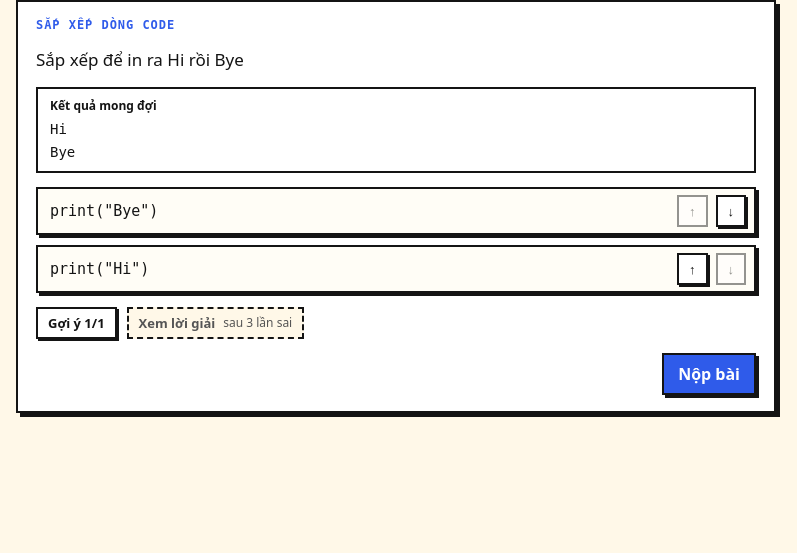
Test: PuzzleExerciseView: parsons › moves lines and submits them in the new order
Expected: the text "Sắp xếp để in ra Hi rồi Bye" is shown, [36,48,244,71]
Expected: the button named "Đưa dòng 1 lên" is disabled, [677,195,708,227]
Click the button named "Đưa dòng 2 lên".
click(692, 269)  # box [677,253,708,285]
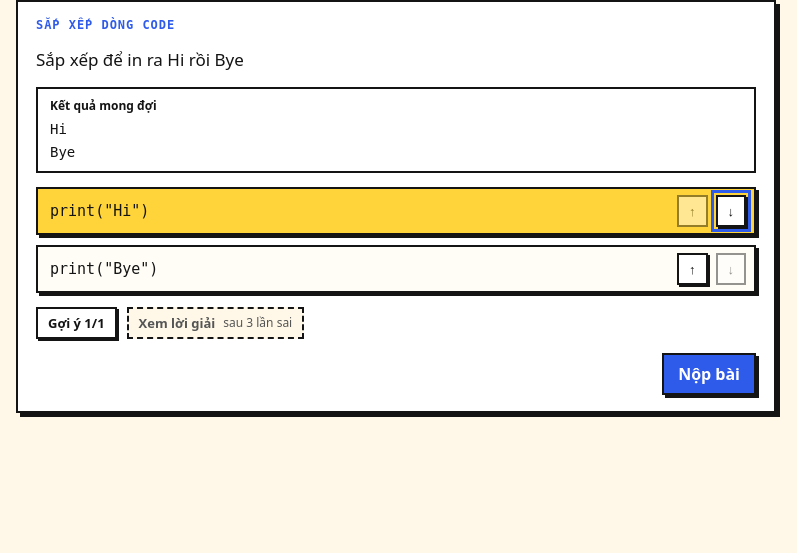
Click the button "Nộp bài".
click(709, 374)  # box [662,353,756,395]
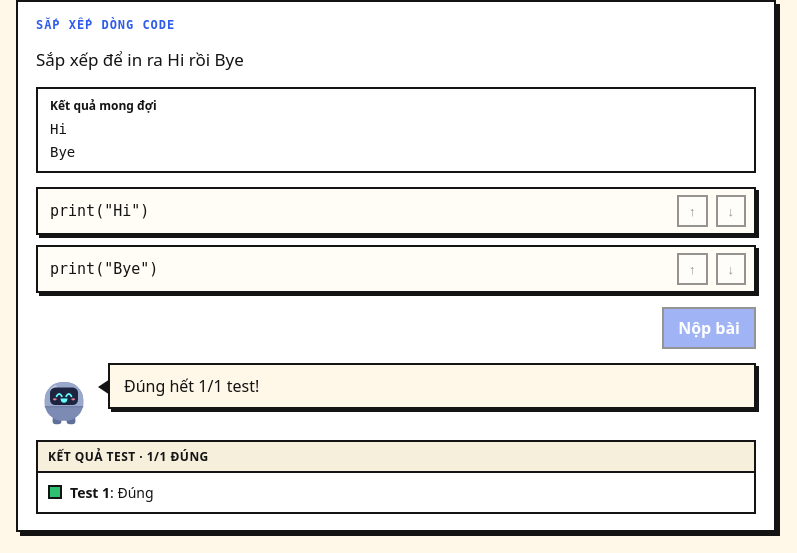
Expected: the button named "Đưa dòng 2 lên" is disabled, [677,253,708,285]
Result: the text "Đúng hết 1/1 test!" is shown at [124,375,259,397]
Result: the button "Nộp bài" is disabled at [662,307,756,349]
